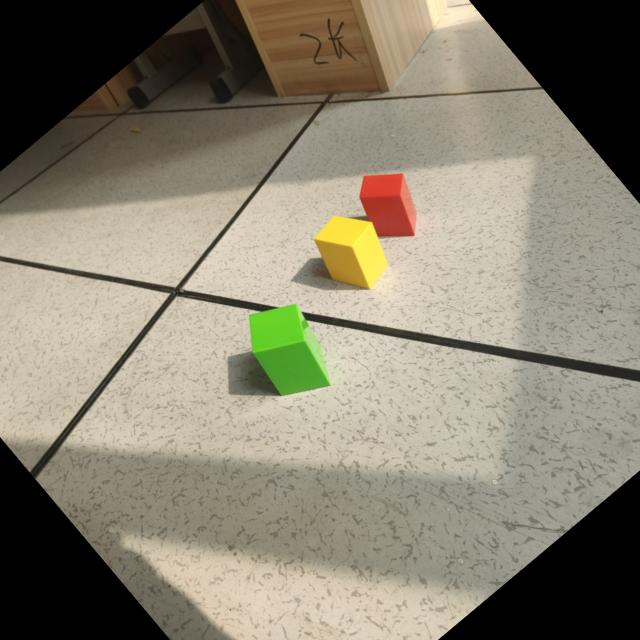green: (246, 304, 331, 396)
red: (359, 166, 419, 240)
yellow: (315, 216, 389, 290)
